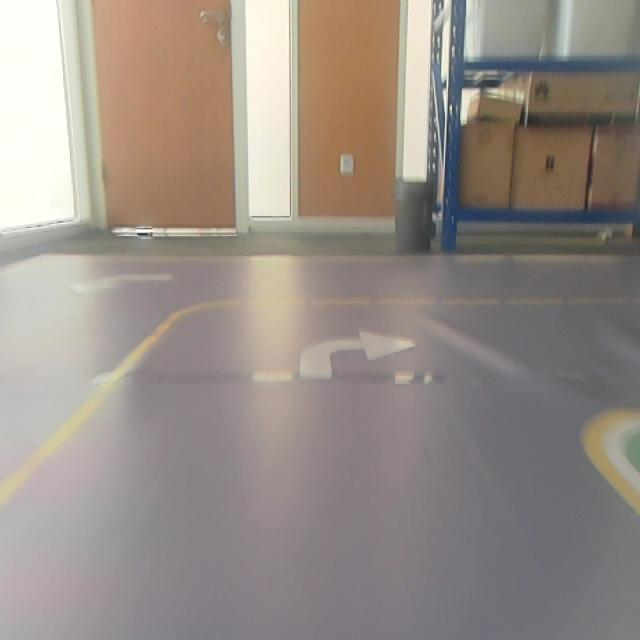left_lane: (0, 317, 181, 513)
right_lane: (582, 432, 640, 514)
